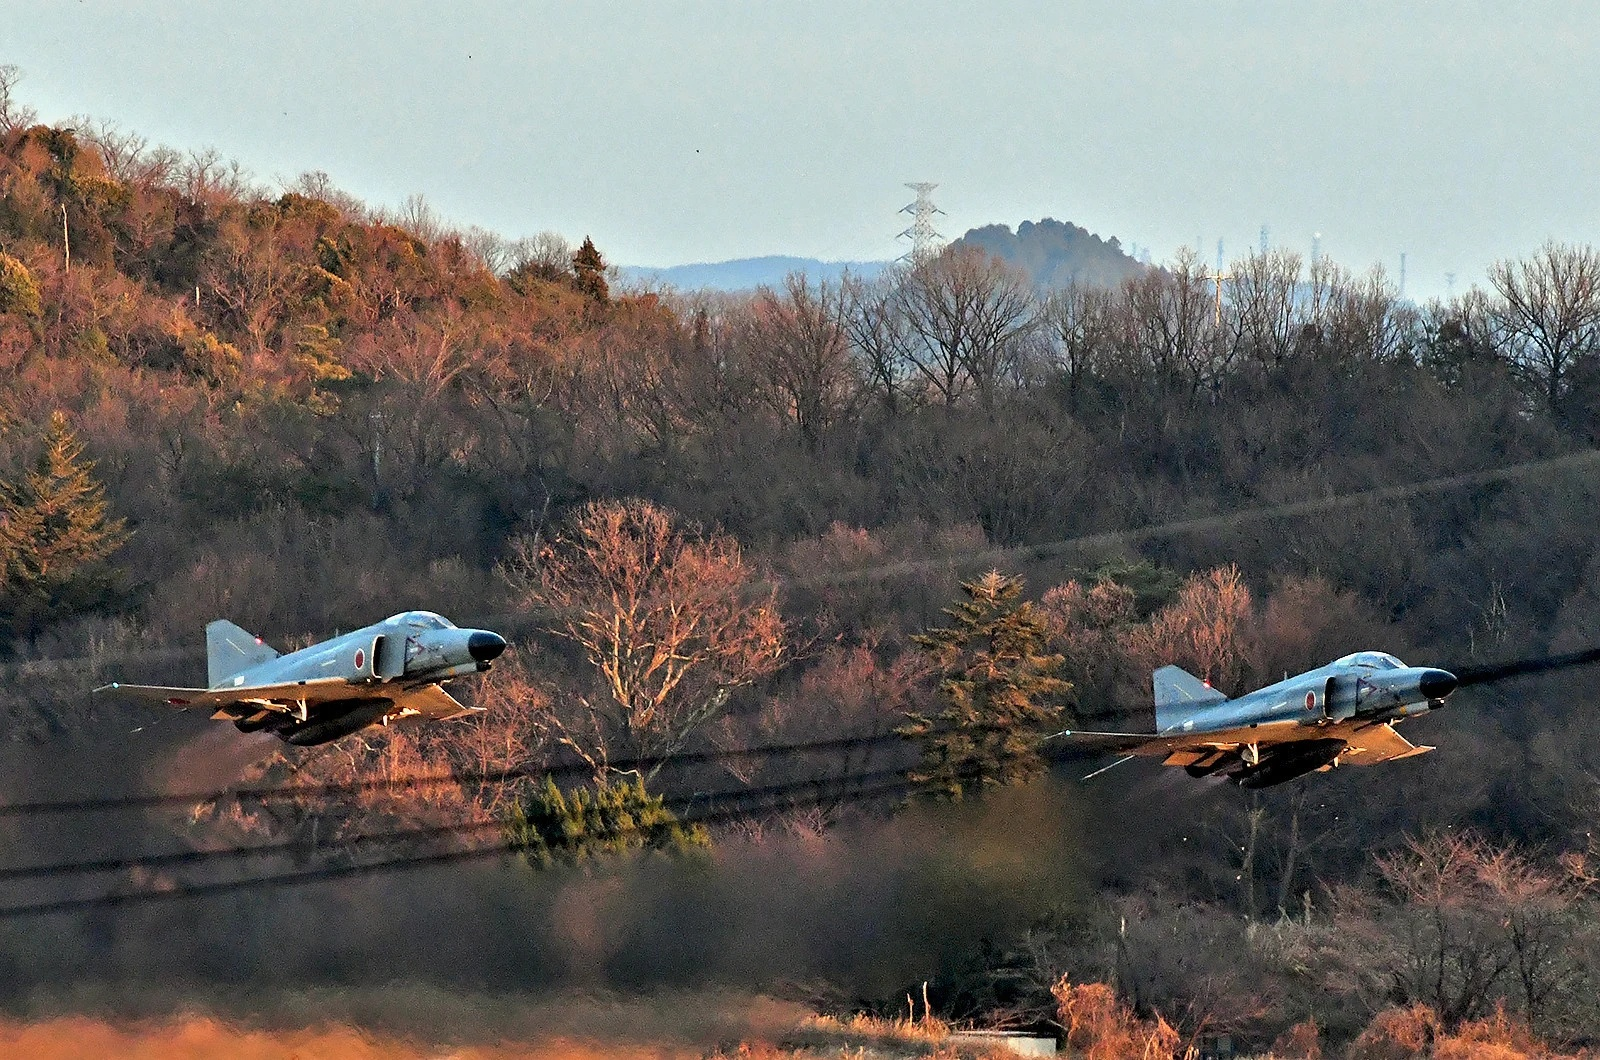F4: (1036, 651, 1460, 791), (89, 609, 516, 746)
